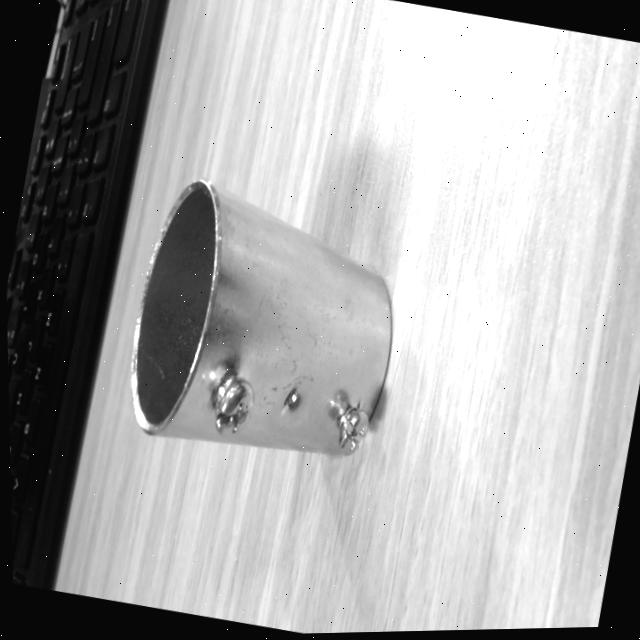Co_Nho: (119, 172, 413, 471)
